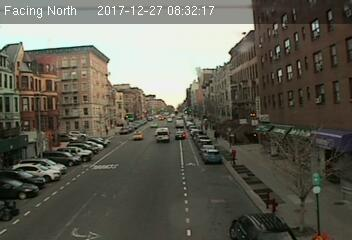car: (203, 148, 220, 162), (173, 129, 185, 139), (133, 131, 144, 140)
truck: (154, 127, 170, 142), (175, 119, 185, 128)
